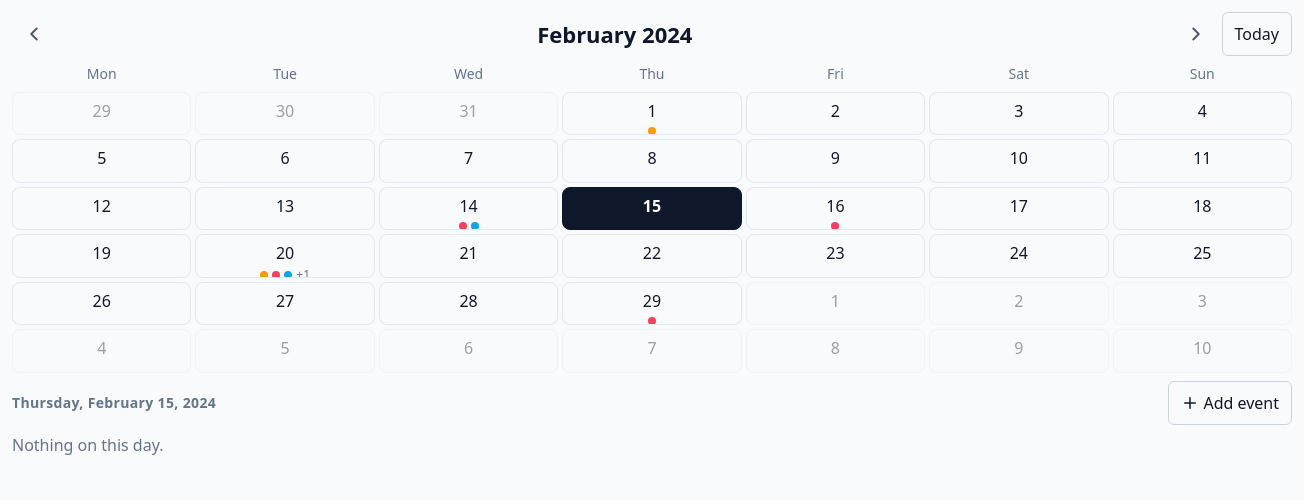
Calendar — navigation › shows the newly-visible month's events after navigating
The image size is (1304, 500).
Expected: the heading "February 2024" is shown, x1=537 y1=19 x2=692 y2=49
Click the button named "Next month".
click(1196, 34)  # box x1=1174 y1=12 x2=1218 y2=56
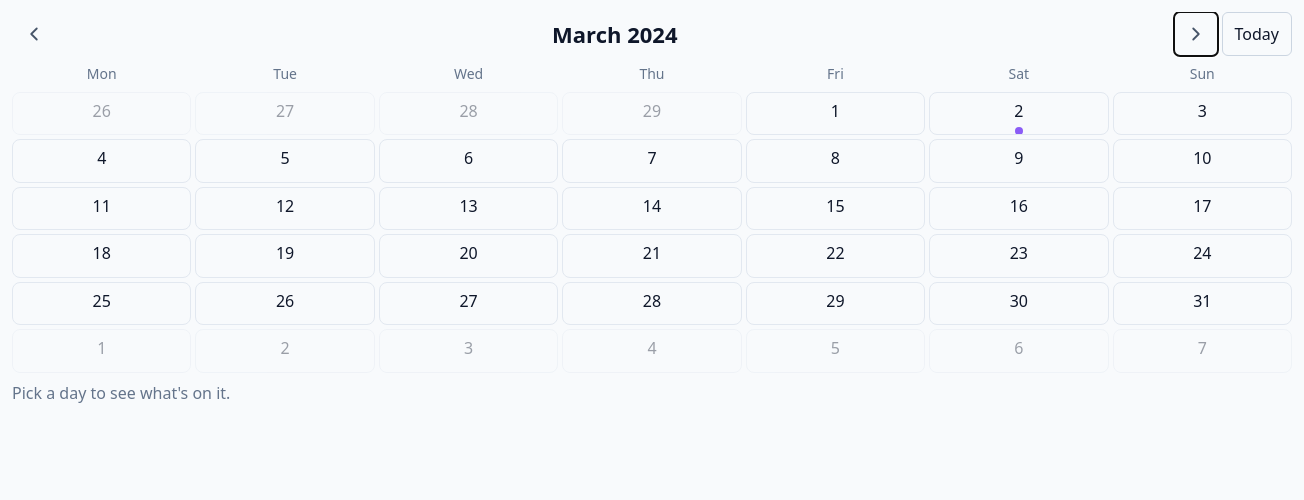
Now the heading "March 2024" is shown, box x1=552 y1=19 x2=678 y2=49
Click the 1st button "2".
click(1019, 114)  # box x1=929 y1=92 x2=1108 y2=136
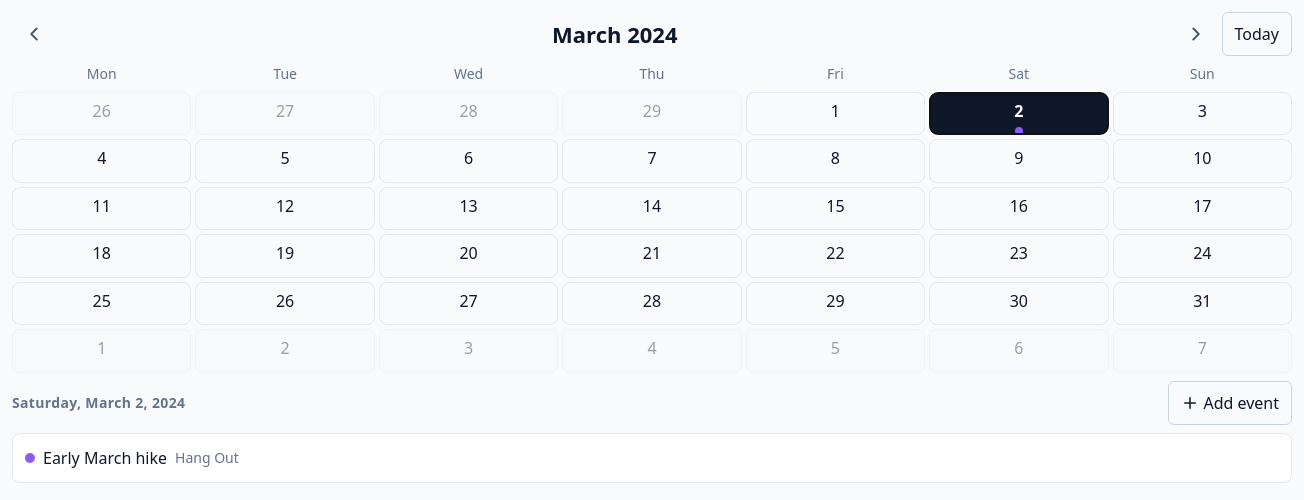
Now the link "Early March hike Hang Out" is shown, box x1=12 y1=433 x2=1292 y2=483
